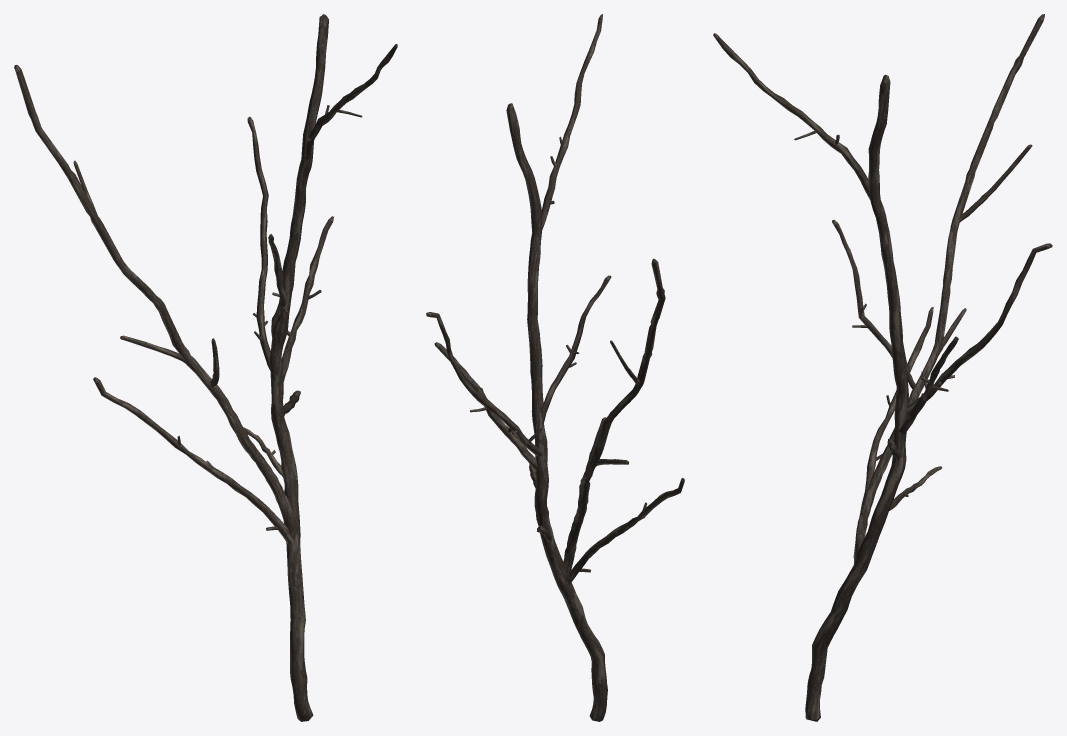
File: Branch_deadwood2_LOD0.fbx
3 views of the same model, side by side, from view 1: azimuth 30°, elevation 25°; view 2: azimuth 150°, elevation 25°; view 3: azimuth 270°, elevation 25° (orthographic). The views are drawn at different scales.
Parts seen in each view (by area): view 1: polySurface6; view 2: polySurface6; view 3: polySurface6.
Part boxes in pixels (x1,y1,x2,y2): polySurface6: (14,14,397,721); polySurface6: (426,14,684,721); polySurface6: (713,14,1052,721).
Bounding box in the file's own units: 129 × 312 × 135.
